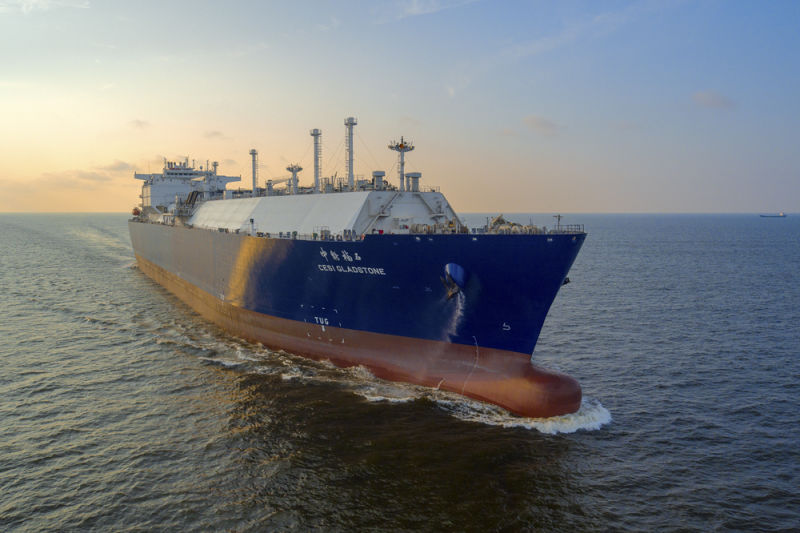Cargoship: (119, 117, 608, 421)
